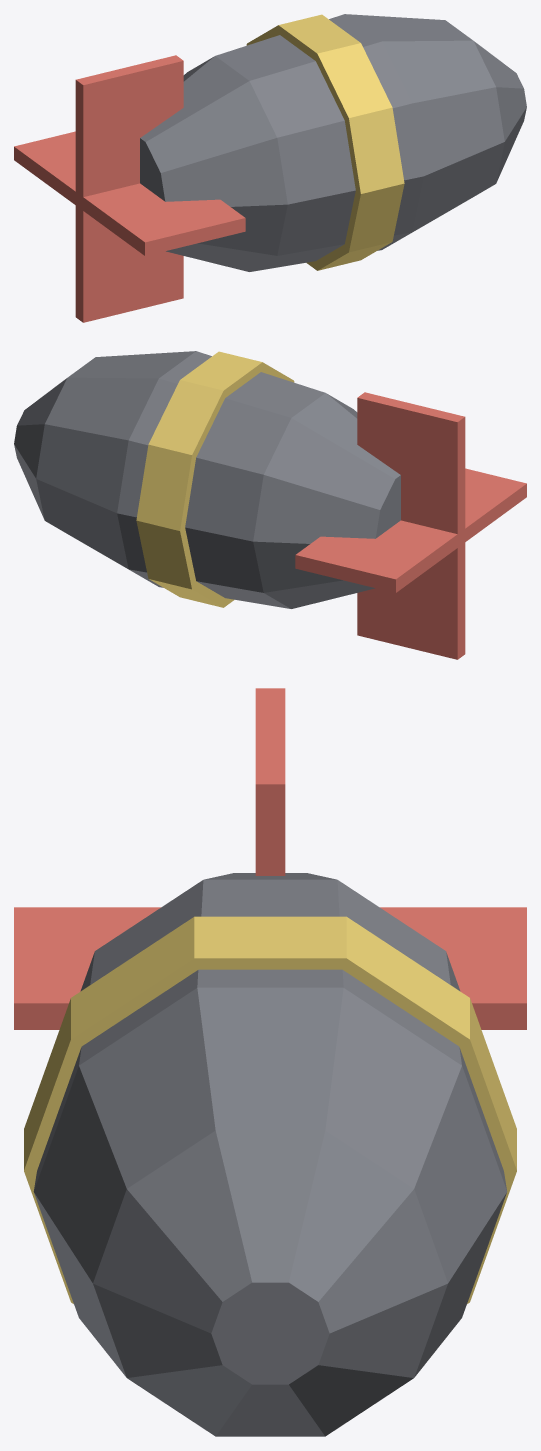
The model's file is nuke.gltf.
3 renders of one model, top to bottom at view 1: azimuth 30°, elevation 25°; view 2: azimuth 150°, elevation 25°; view 3: azimuth 270°, elevation 25°, orthographic. The views are drawn at different scales.
Visible parts, largest first — view 1: Body, Fins, Band; view 2: Body, Fins, Band; view 3: Body, Band, Fins.
Boxes of the visible parts, x1,y1,x2,y2 form: Body: (140,14,526,271); Fins: (14,55,245,322); Band: (246,14,404,270); Body: (14,351,400,608); Fins: (295,392,526,659); Band: (136,351,294,607); Body: (33,873,507,1436); Band: (24,916,516,1303); Fins: (14,688,526,1029).
Size of the model in its own units: 0.99 by 0.52 by 0.52.
